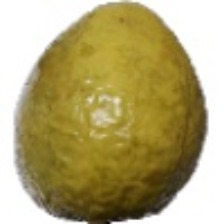guava: (41, 32, 182, 211)
